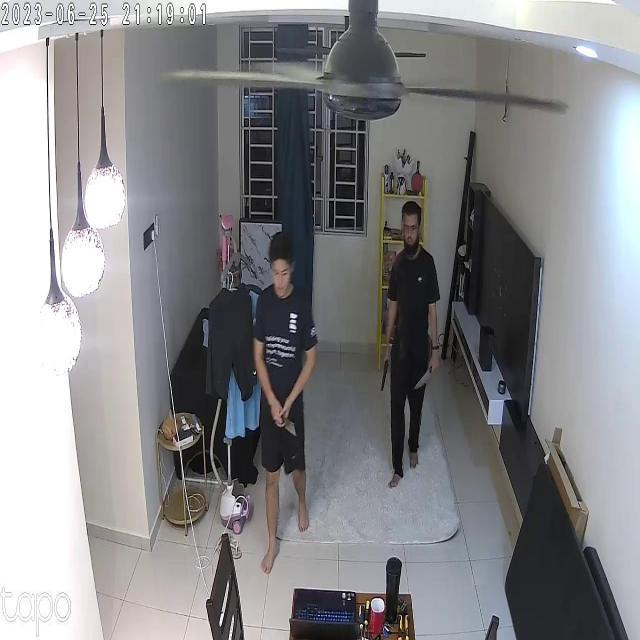Gun: (370, 349, 396, 396)
Knife: (410, 361, 448, 400), (272, 406, 306, 448)
